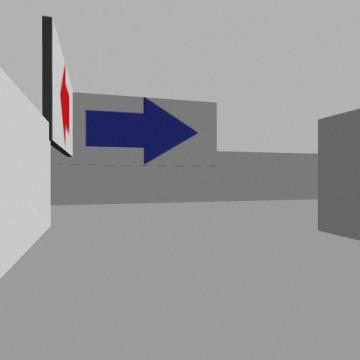blue_right: (86, 98, 197, 163)
red_left: (60, 64, 69, 146)
